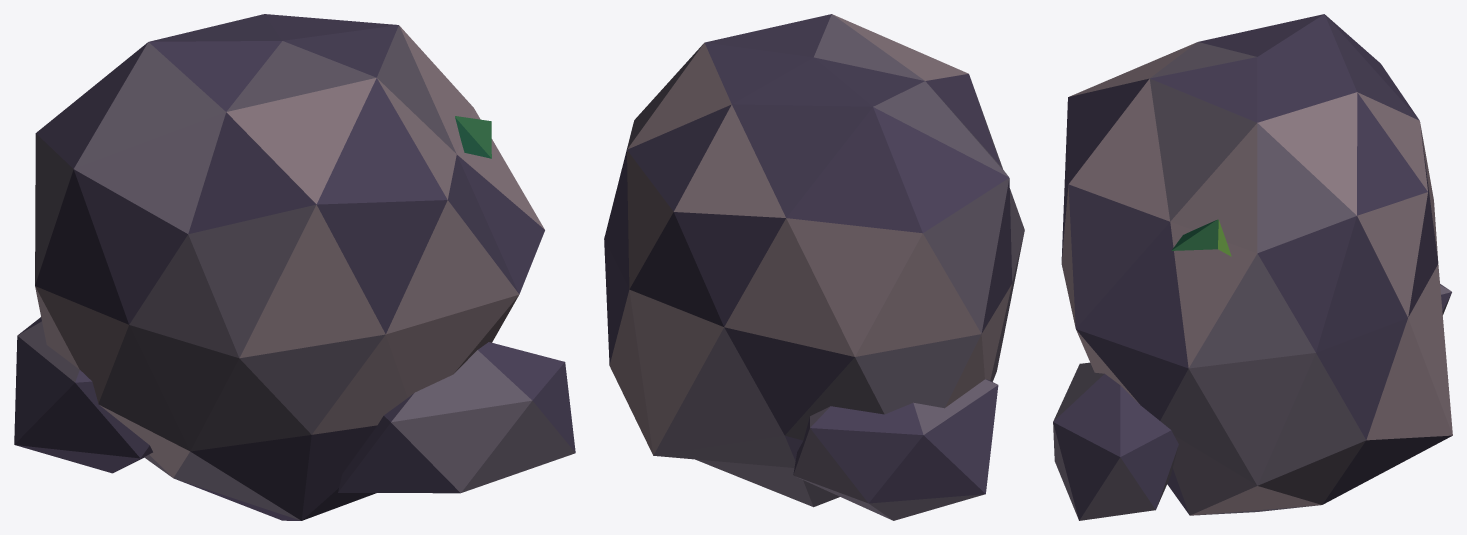
The model's file is grove_boulder.glb.
3 renders of one model, left to right at view 1: azimuth 30°, elevation 25°; view 2: azimuth 150°, elevation 25°; view 3: azimuth 270°, elevation 25°, orthographic. The views are drawn at different scales.
Visible parts, largest first — view 1: grove_boulder; view 2: grove_boulder; view 3: grove_boulder.
Part boxes in pixels (<box>): grove_boulder: <box>14,14,575,520</box>; grove_boulder: <box>604,14,1024,520</box>; grove_boulder: <box>1053,14,1452,520</box>.
Bounding box in the file's own units: 1.92 × 1.94 × 1.55.
